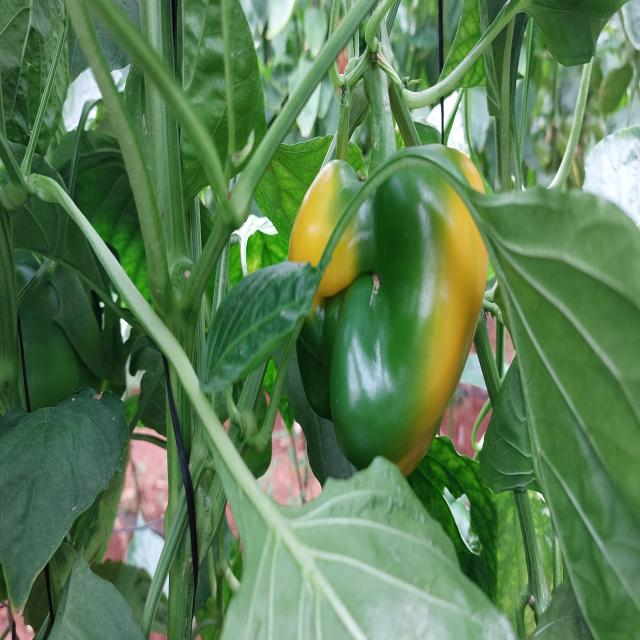GreenishYellow--Can-be-Harvested: (286, 103, 504, 487)
